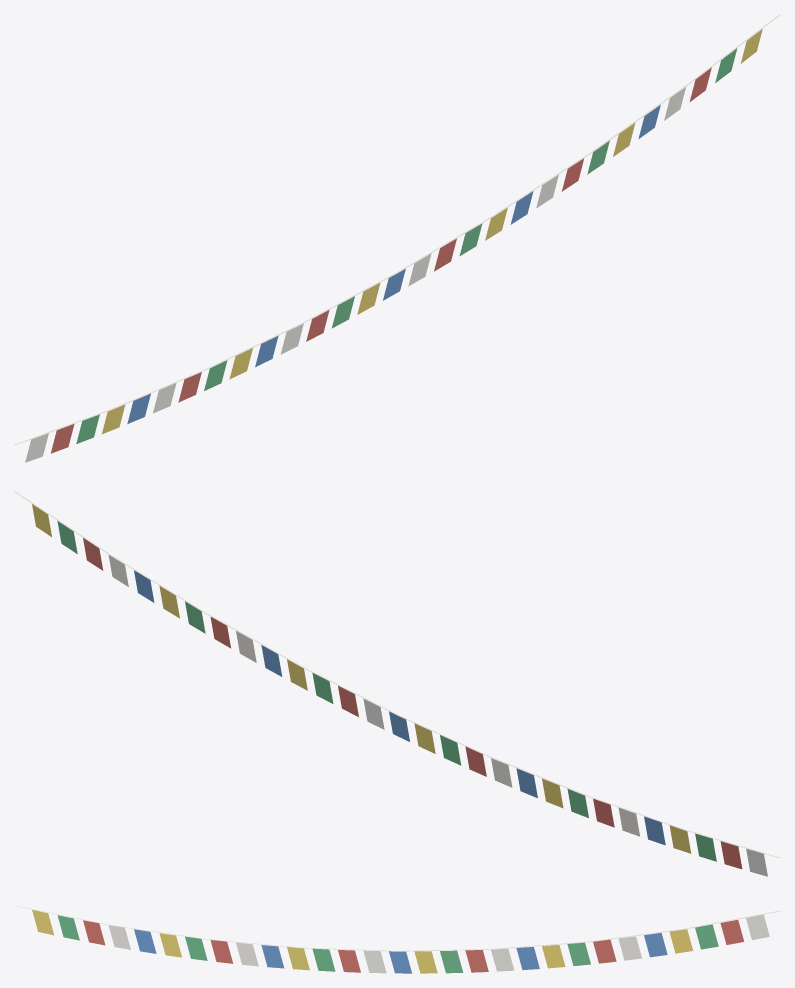
3 renders of one model, top to bottom at view 1: azimuth 90°, elevation 25°; view 2: azimuth 210°, elevation 25°; view 3: azimuth 270°, elevation 25°, orthographic. The views are drawn at different scales.
Parts seen in each view (by area): view 1: PrayerFlags_L2_3_Reverse; view 2: PrayerFlags_L2_3_Reverse; view 3: PrayerFlags_L2_3_Reverse.
Boxes of the visible parts, x1,y1,x2,y2 form: PrayerFlags_L2_3_Reverse: (14,14,780,462); PrayerFlags_L2_3_Reverse: (14,491,780,876); PrayerFlags_L2_3_Reverse: (14,905,780,973).
Bounding box in the file's own units: 9.23 × 4.83 × 14.02.
